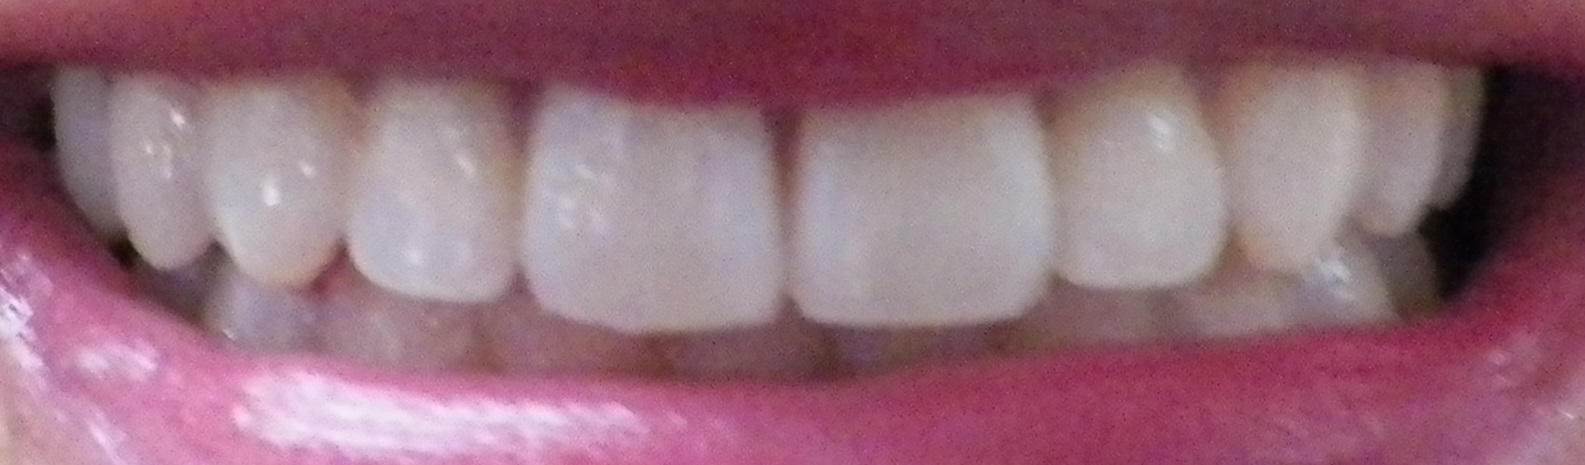boca: (33, 38, 1488, 401)
